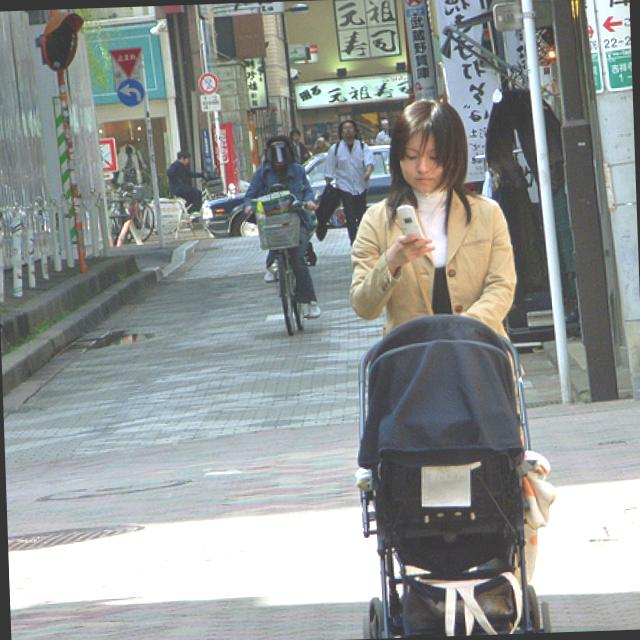Vehicle: (198, 143, 395, 236)
